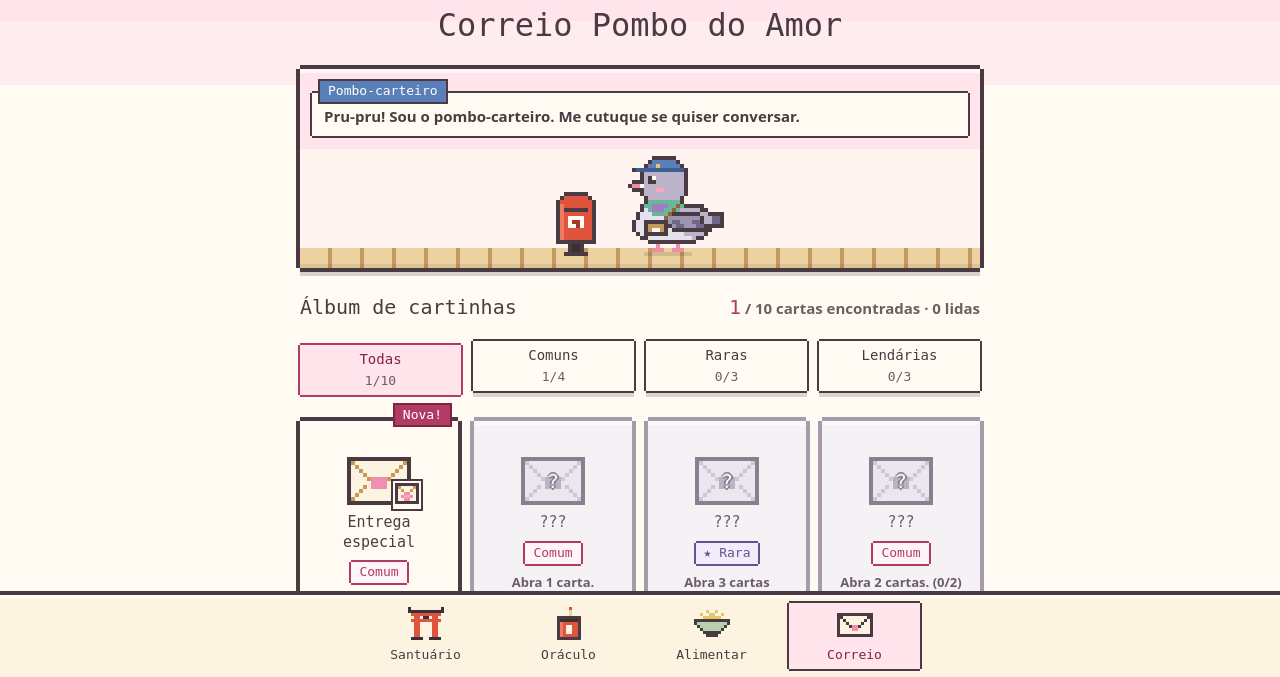
Scenario: Correio Pombo do Amor › abrir uma carta: janela com o texto completo, foco no título, Esc fecha e devolve o foco
Step 1. Click the button named "carta \"Entrega especial\"" → {"x": 379, "y": 523}, box 300,421 -> 458,625
(page scrolled)
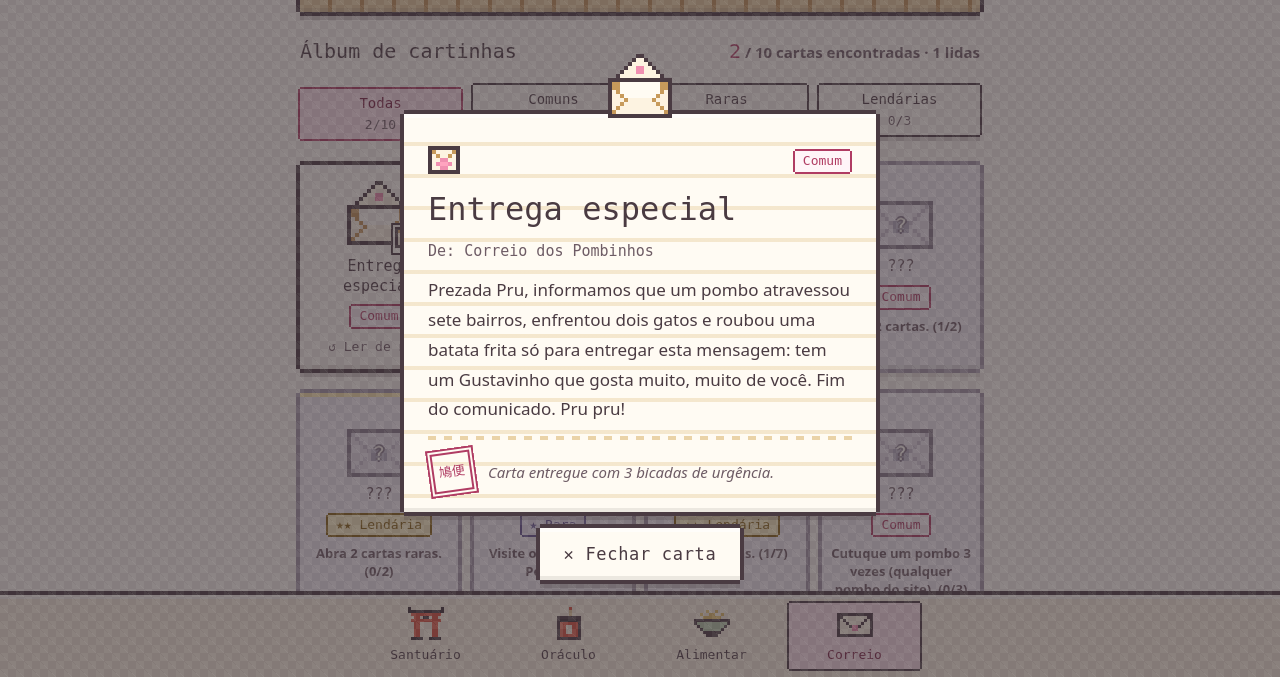
Now the dialog "Entrega especial" shows "Prezada Pru, informamos que um pombo atravessou sete bairros, enfrentou dois gatos e roubou uma batata frita só para entregar esta mensagem: tem um Gustavinho q", box 428,278 -> 850,420
Now the dialog "Entrega especial" shows "De: Correio dos Pombinhos", box 400,54 -> 880,580
Step 2. Press Escape
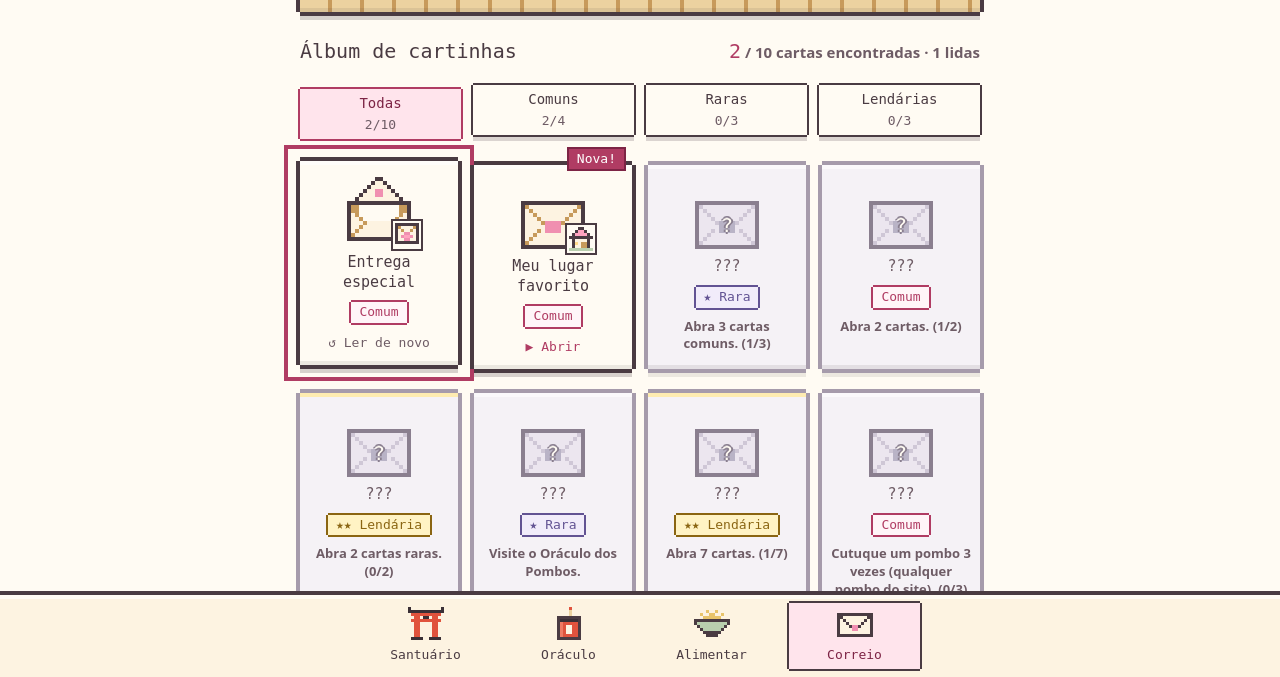
Now the dialog is gone
